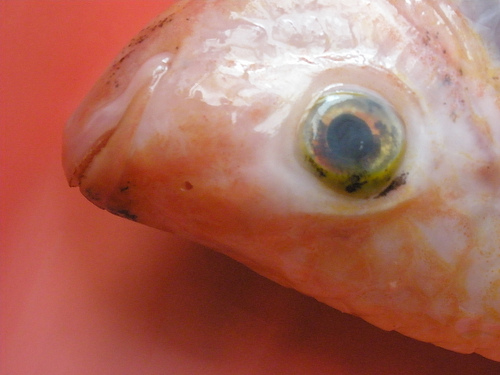fish: (55, 2, 499, 373)
